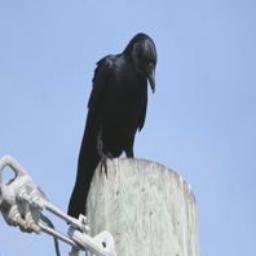Crow: (67, 31, 159, 227)
